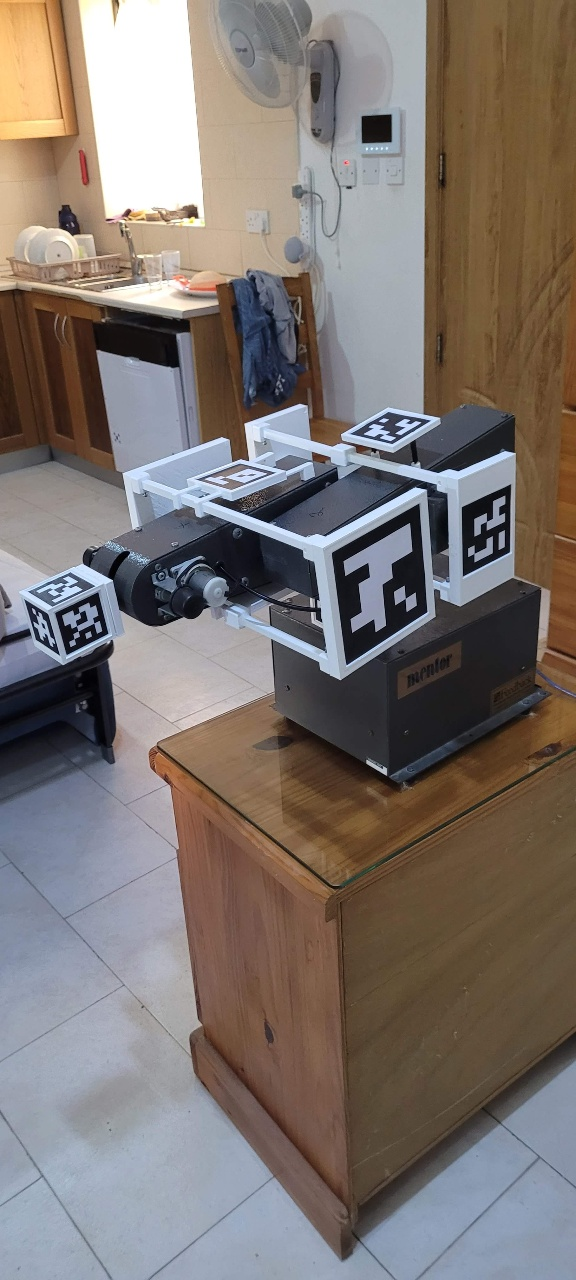Robot: (1, 175, 562, 1089)
